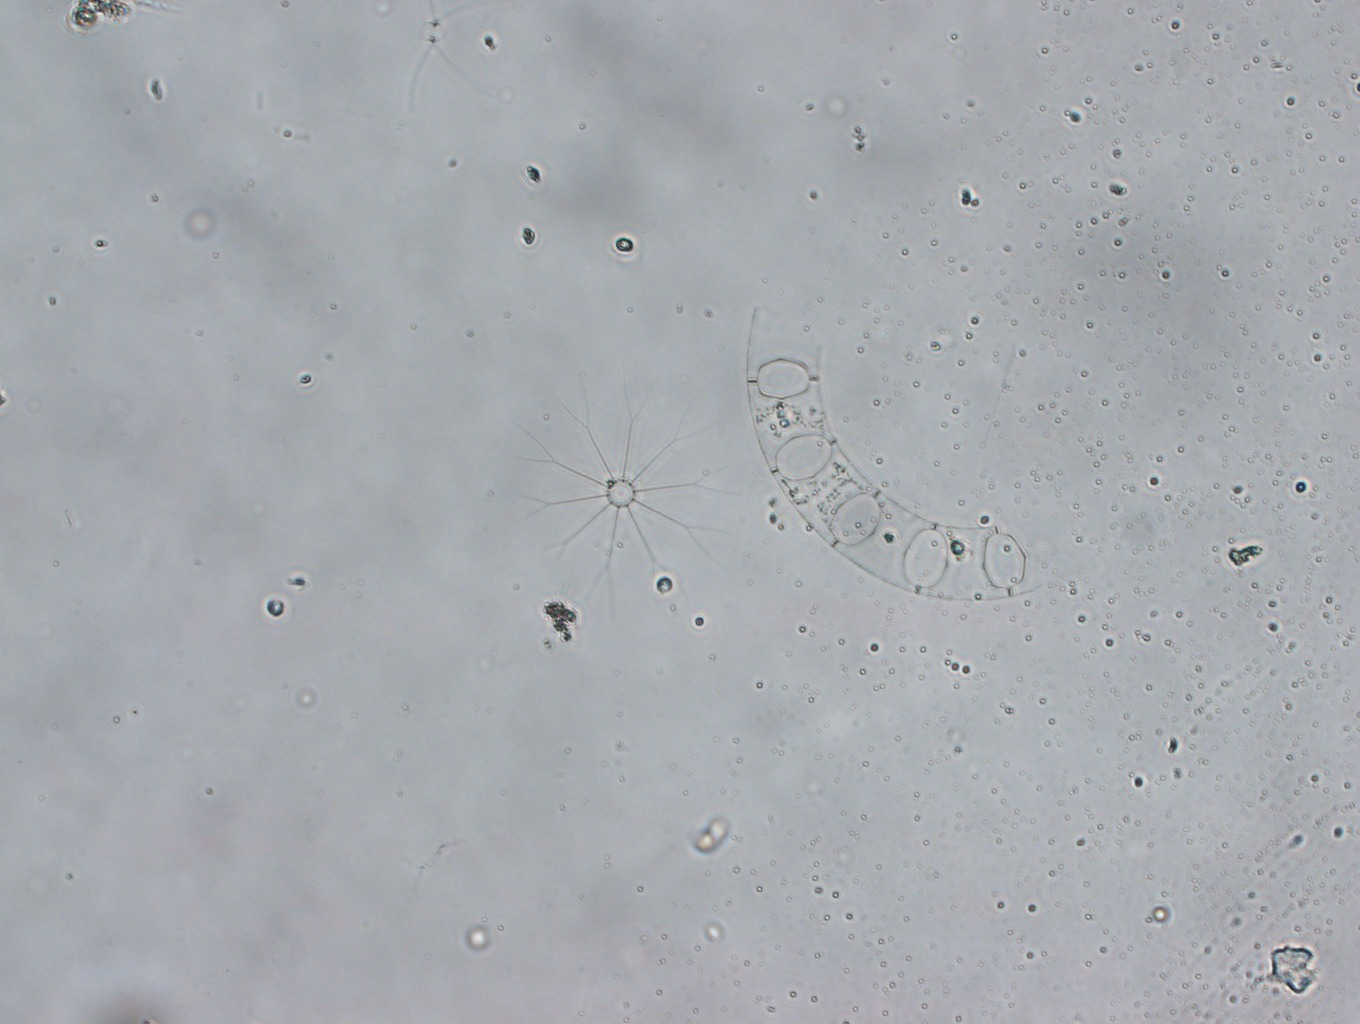bacteriastrum: (496, 376, 734, 616)
eucampia: (745, 307, 1041, 603)
